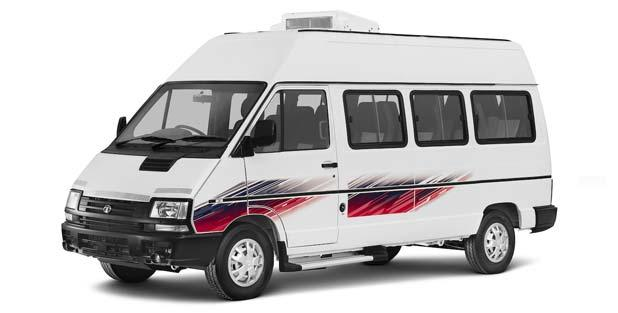van: (61, 26, 559, 302)
